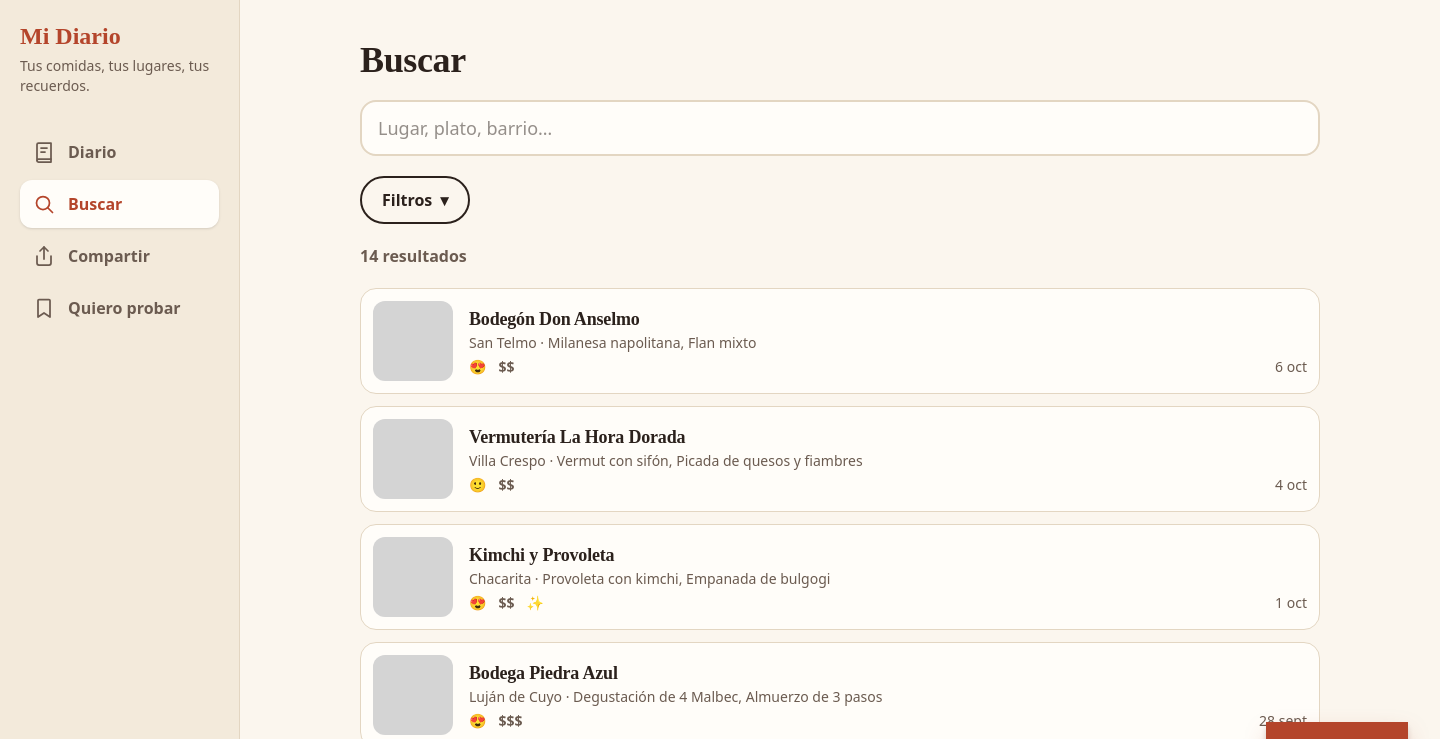
Scenario: Search › shows a helpful empty result and lets you clear the search
Type "zzzz" into the search field named "Buscar en tu diario" at (840, 128), box 360,100 -> 1320,156
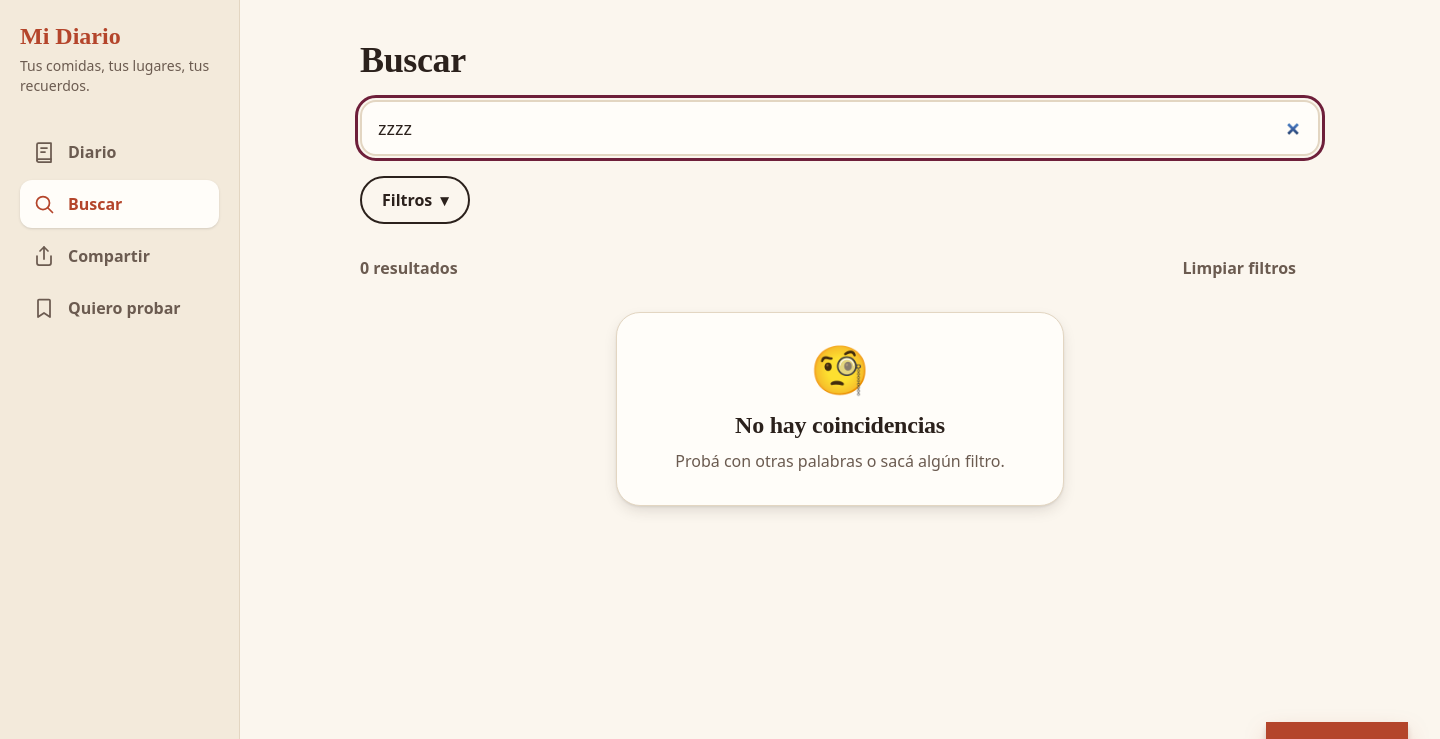
Expected: the heading "No hay coincidencias" is shown, 735,412 -> 945,438
Expected: the text "0 resultados" is shown, 360,256 -> 458,280
Click the button "Limpiar filtros" at (1239, 268), box 1159,244 -> 1320,292
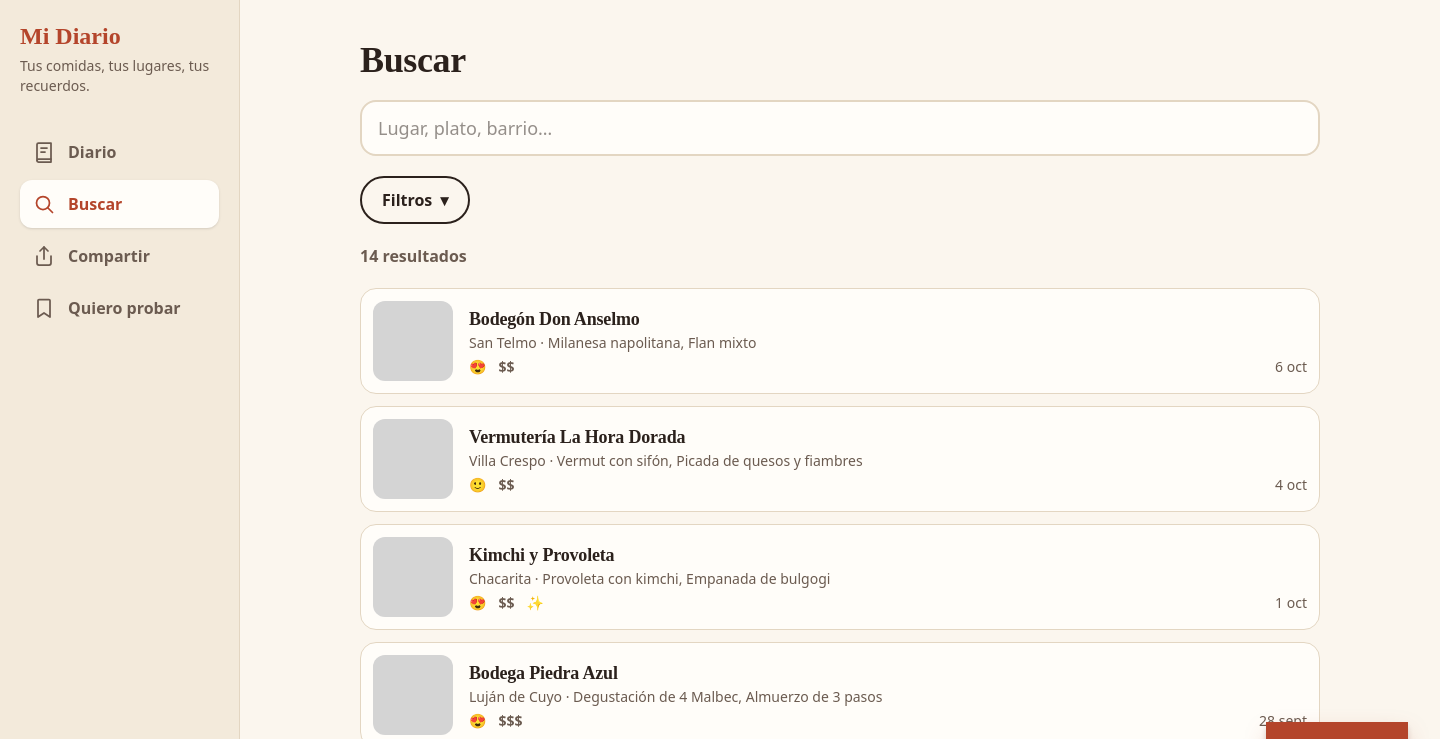
Expected: the text "14 resultados" is shown, 360,244 -> 467,268
